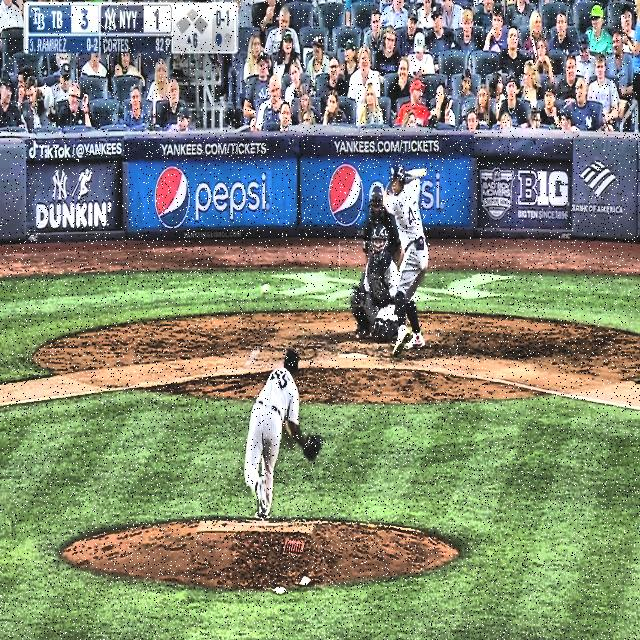baseball: (261, 283, 270, 295)
